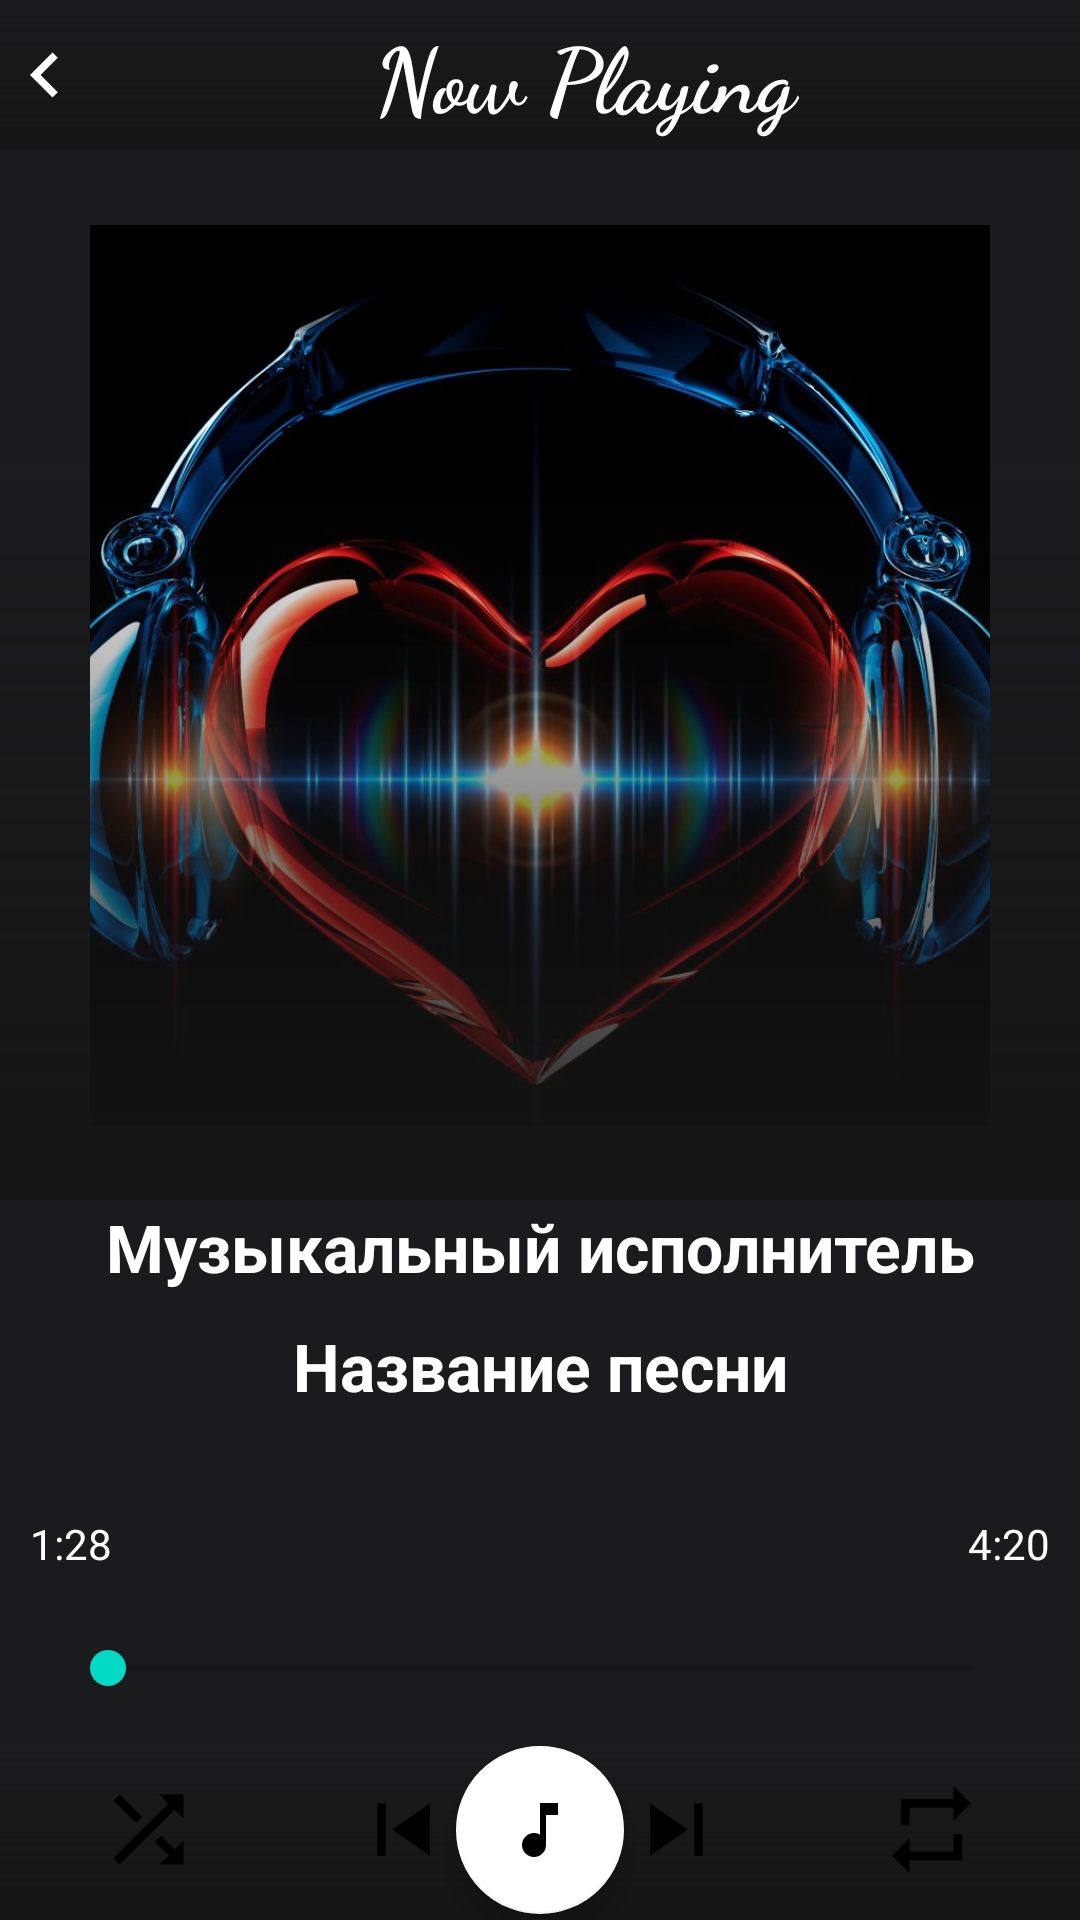

Point at icon controls on the screen. Image size 1080×1920, points as point (x, y).
Воспроизведение следующей композиции: point (676, 1829)
Кнопка возврата на предыдущую страницу: point (44, 75)
Кнопка для воспроизведения: point (540, 1830)
Повторить воспроизведение композиции: point (931, 1829)
Проигрывать предыдущую мелодию: point (403, 1829)
Случайный режим воспроизведения: point (148, 1829)
